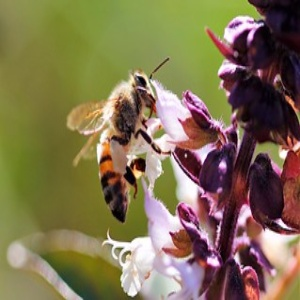bee: (65, 56, 177, 223)
